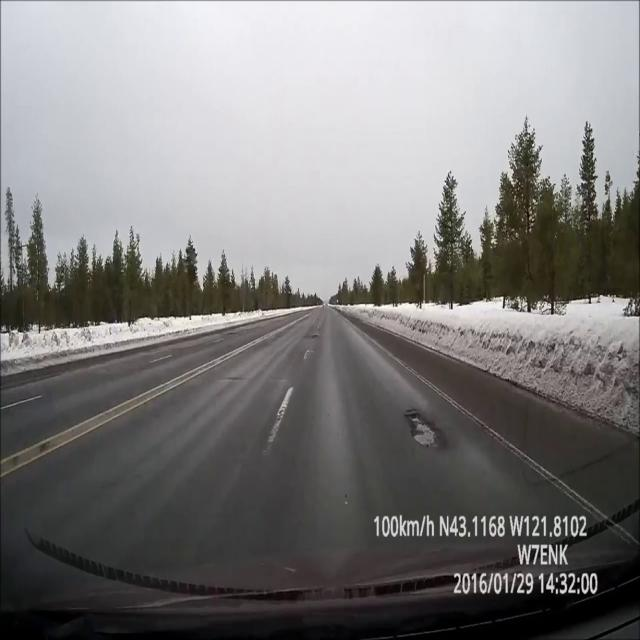Pothole: (404, 407, 447, 448), (313, 334, 318, 339)
